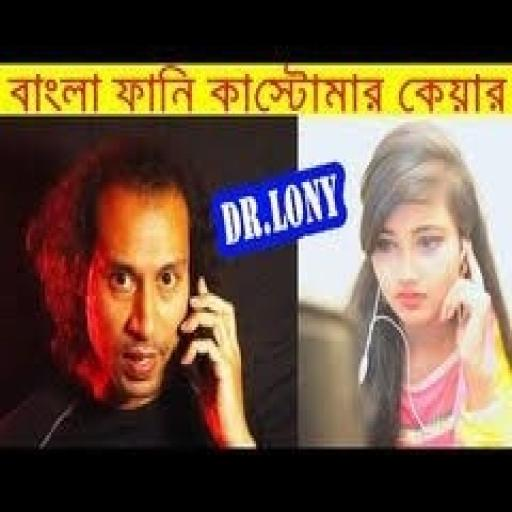calling: (0, 136, 260, 452), (343, 120, 510, 450)
